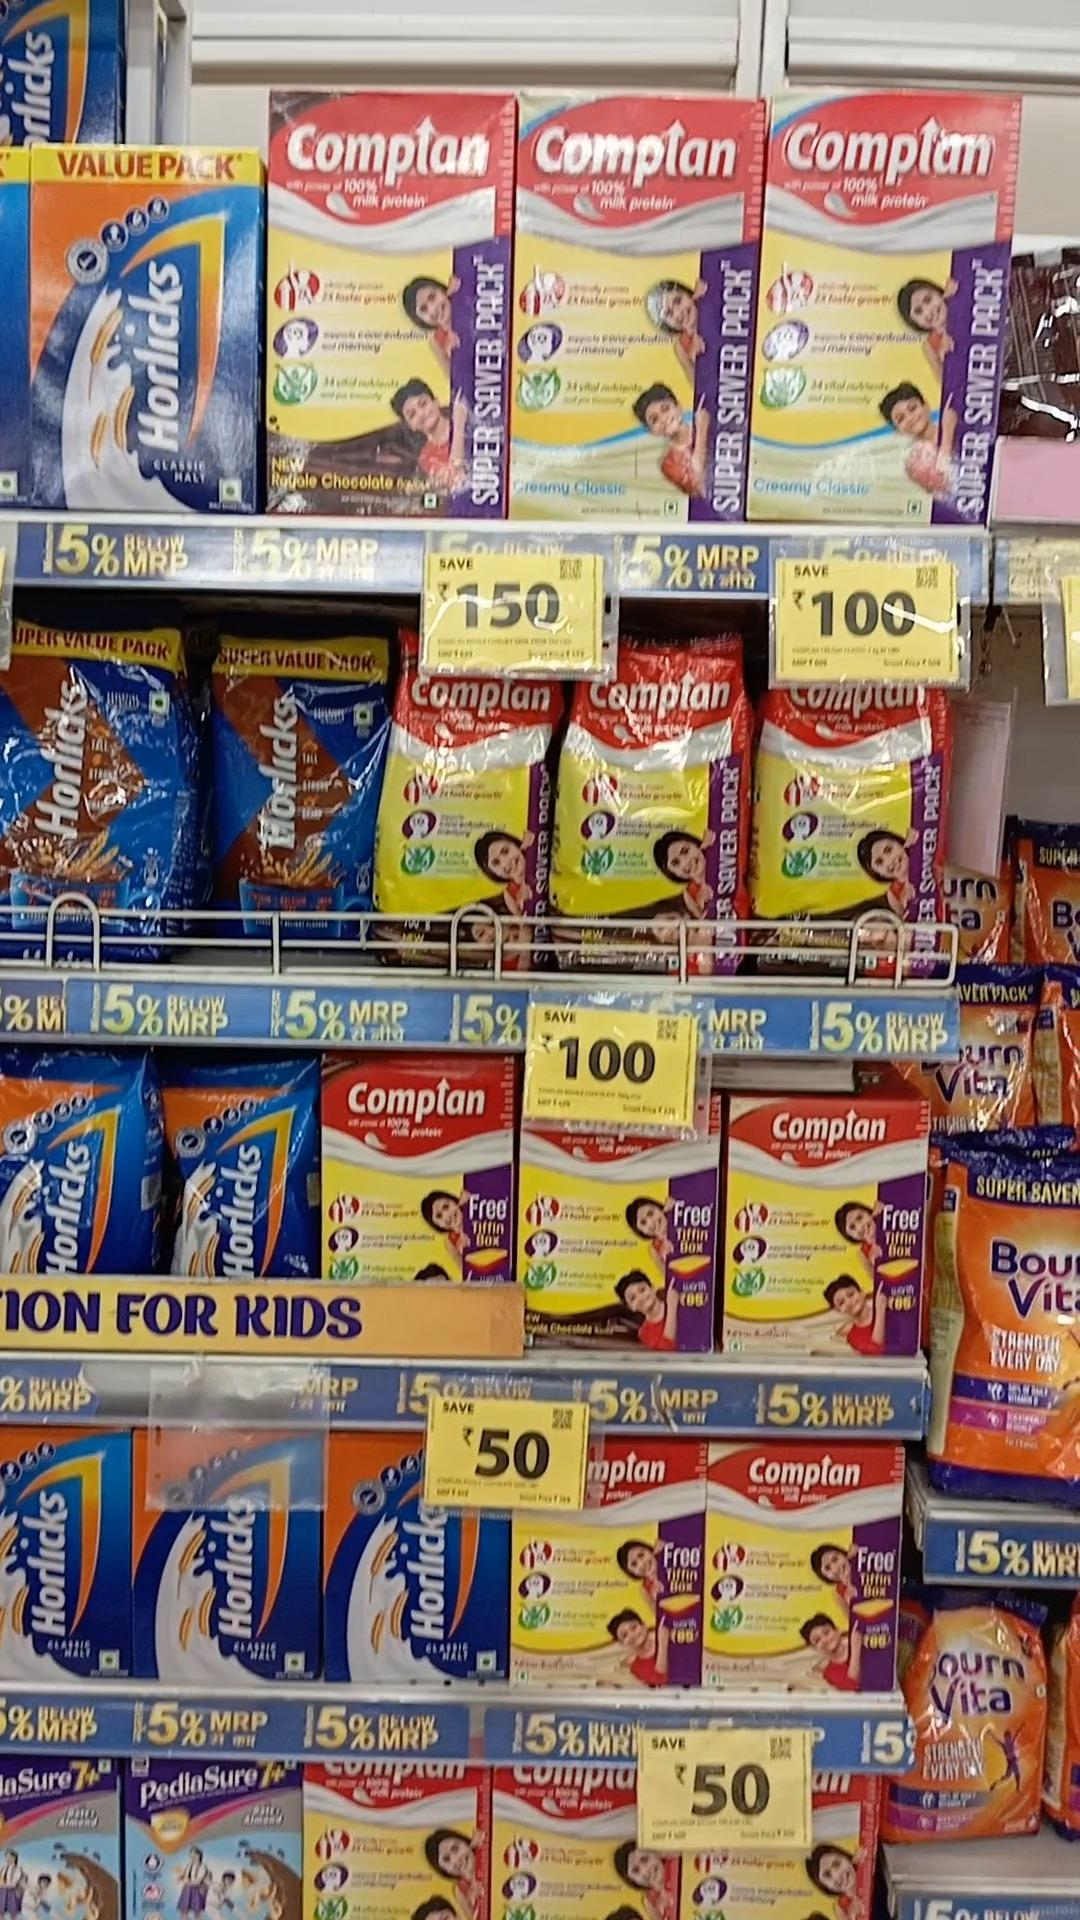BOURN_VITA_750_G_POUCH: (913, 1598, 1051, 1844)
COMPLAN_CHOCOLATE_1_KG_PACK: (262, 86, 505, 517)
COMPLAN_CHOCOLATE_500_GMS_PACK: (517, 1125, 716, 1358), (318, 1054, 506, 1276)
COMPLAN_KESAR_BADAM_500_GMS_PACK: (731, 1098, 923, 1366), (518, 1437, 698, 1701), (711, 1437, 893, 1695)
COMPLAN_RC_POUCH_700_GMS_12: (562, 649, 748, 972), (760, 680, 942, 977), (390, 667, 547, 972)
HORLICK_CHOCOLATE_750_G_POUCH: (5, 621, 181, 968), (208, 640, 372, 944)
HORLICK_CLASSIC_MALT_500_G_PACK: (136, 1428, 315, 1684), (328, 1440, 497, 1684), (0, 1427, 127, 1677)
HORLICK_CLASSIC_MALT_750_G_POUCH: (165, 1069, 313, 1287), (4, 1054, 144, 1278)
PEDIASURE_7_PLUS_CHOCOLATE_400_G_PACK: (123, 1754, 303, 1920)
